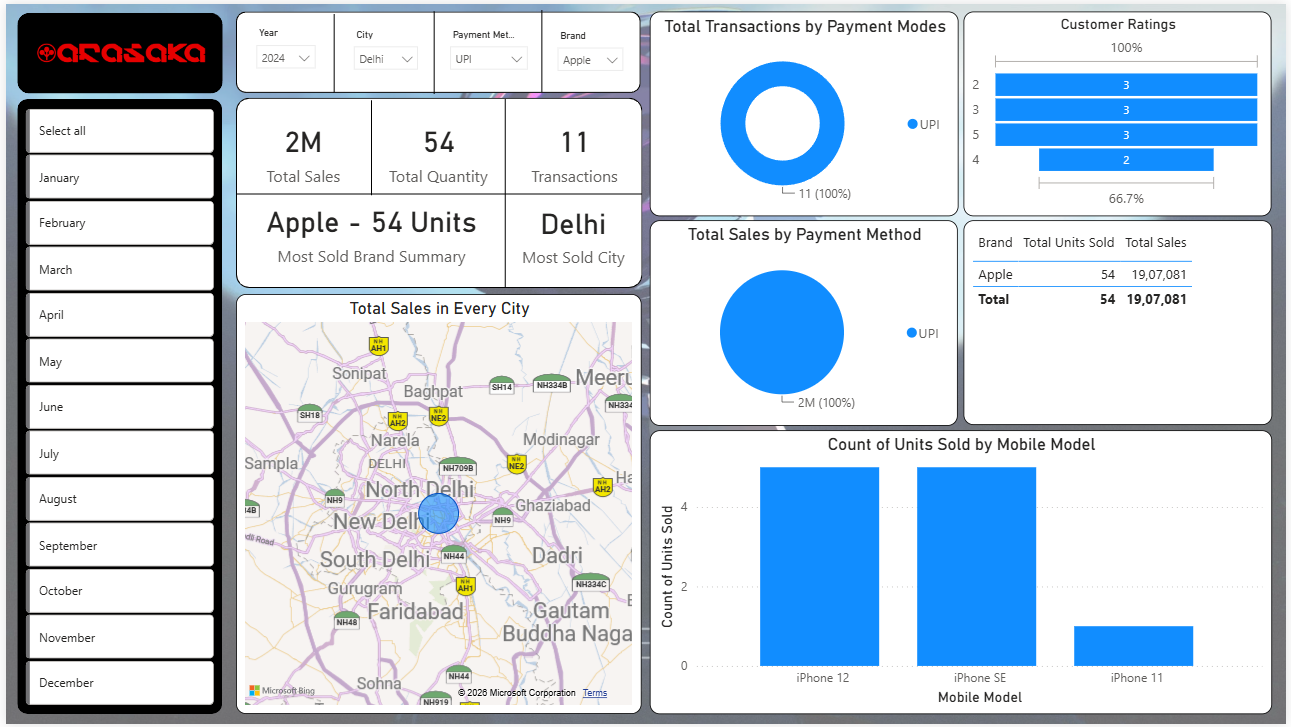

Layout of this report page (visuals, bound fields, positions):
{"tool":"powerbi","page":{"name":"Page 1","canvas":[1280,720],"ordinal":0},"visuals":[{"type":"group","id":"g1","title":"Group 1","box":[0,0,228.8,98.8],"z":0},{"type":"shape","box":[14.7,6.4,205.1,82.7],"z":0,"group":"g1"},{"type":"shape","box":[231.6,8.4,404.2,82],"z":0,"group":"g5"},{"type":"shape","box":[14.5,92.9,205.1,617.7],"z":0,"group":"g4"},{"type":"shape","box":[230.3,94.7,406.4,190.2],"z":0,"group":"g2"},{"type":"shape","box":[229.2,97.7,406.4,190.2],"z":0,"group":"g3"},{"type":"image","box":[0,0,228.8,98.8],"z":1000,"group":"g1"},{"type":"group","id":"g2","title":"Group 3","box":[229.2,92.9,406.6,194.2],"z":1000},{"type":"shape","box":[230.3,97.7,271.3,94.7],"z":1000,"group":"g3"},{"type":"shape","box":[365,9.3,270,81.9],"z":1500,"group":"g5"},{"type":"shape","box":[364.3,95.7,271.3,188.5],"z":2000,"group":"g3"},{"type":"advancedSlicerVisual","fields":{"Values":["Mobile_Sales_Data.Date.Variation.Date Hierarchy.Month"]},"box":[18.1,100.1,199.1,611.7],"z":2000,"group":"g4"},{"type":"map","title":"Total Sales in Every City","fields":{"Category":["Mobile_Sales_Data.City"],"Size":["Mobile_Sales_Data.Total Sales"]},"box":[230,290,405.6,420],"z":2000},{"type":"card","fields":{"Values":["Mobile_Sales_Data.Total_Quantity"]},"box":[365.4,92.9,135.1,109.7],"z":3000,"group":"g2"},{"type":"clusteredColumnChart","fields":{"Category":["Mobile_Sales_Data.Mobile Model"],"Y":["CountNonNull(Mobile_Sales_Data.Units Sold)"]},"box":[644.2,426.3,622.1,283.7],"z":3000},{"type":"card","fields":{"Values":["Mobile_Sales_Data.Most Sold Brand Summary"]},"box":[230.3,173.4,271.3,109.7],"z":4000,"group":"g2"},{"type":"pieChart","fields":{"Category":["Mobile_Sales_Data.Payment Method"],"Y":["Mobile_Sales_Data.Total Sales"]},"box":[644.2,215.8,307.9,205.3],"z":4000},{"type":"donutChart","title":"Total Transactions by Payment Modes","fields":{"Category":["Mobile_Sales_Data.Payment Method"],"Y":["Mobile_Sales_Data.Transactions"]},"box":[644,7,309,205],"z":5000},{"type":"card","fields":{"Values":["Mobile_Sales_Data.Total_Sales"]},"box":[501.6,92.9,135.1,109.7],"z":5000,"group":"g2"},{"type":"funnel","title":"Customer Ratings","fields":{"Category":["Mobile_Sales_Data.Customer Ratings"],"Y":["CountNonNull(Mobile_Sales_Data.Customer Ratings)"]},"box":[958,7,308,205],"z":6000},{"type":"card","fields":{"Values":["Mobile_Sales_Data.Total_Sales"]},"box":[230.3,92.9,135.1,109.7],"z":6000,"group":"g2"},{"type":"group","id":"g3","title":"Group 2","box":[229.2,95.7,406.4,192.2],"z":7000,"group":"g2"},{"type":"tableEx","title":"Customer Ratings","fields":{"Values":["Mobile_Sales_Data.Brand","Mobile_Sales_Data.Total Units Sold","Mobile_Sales_Data.Total Sales"]},"box":[957.9,216,308.8,205.1],"z":7000},{"type":"group","id":"g4","title":"Group 5","box":[14.5,92.9,205.1,618.9],"z":8000},{"type":"card","fields":{"Values":["Mobile_Sales_Data.Most Sold City"]},"box":[500.5,174.3,135.1,109.7],"z":8000,"group":"g2"},{"type":"group","id":"g5","title":"Group 4","box":[231.2,8.4,404.5,82.8],"z":9000},{"type":"slicer","fields":{"Values":["Mobile_Sales_Data.City"]},"box":[505.5,15.7,124.3,65.1],"z":10000},{"type":"slicer","fields":{"Values":["Mobile_Sales_Data.Brand"]},"box":[236.5,15.7,121.9,65.1],"z":11000},{"type":"slicer","fields":{"Values":["Mobile_Sales_Data.Payment Method"]},"box":[368,18.1,130.3,65.1],"z":12000},{"type":"shape","box":[231.2,9.3,270,81.9],"z":13000,"group":"g5"}]}

Visuals, with their boxes in screenshot pixels (x1, y1, x2, y2), scaled from the page's 1280x720 canvas onto the 1291x727 screenshot:
"Group 1" group: bbox=[0, 0, 231, 100]
shape: bbox=[15, 6, 222, 90]
shape: bbox=[234, 8, 641, 91]
shape: bbox=[15, 94, 221, 718]
shape: bbox=[232, 96, 642, 288]
shape: bbox=[231, 99, 641, 291]
image: bbox=[0, 0, 231, 100]
"Group 3" group: bbox=[231, 94, 641, 290]
shape: bbox=[232, 99, 506, 194]
shape: bbox=[368, 9, 640, 92]
shape: bbox=[367, 97, 641, 287]
advancedSlicerVisual - Mobile_Sales_Data.Date.Variation.Date Hierarchy.Month: bbox=[18, 101, 219, 719]
"Total Sales in Every City" map: bbox=[232, 293, 641, 717]
card - Mobile_Sales_Data.Total_Quantity: bbox=[369, 94, 505, 205]
clusteredColumnChart - Mobile_Sales_Data.Mobile Model x CountNonNull(Mobile_Sales_Data.Units Sold): bbox=[650, 430, 1277, 717]
card - Mobile_Sales_Data.Most Sold Brand Summary: bbox=[232, 175, 506, 286]
pieChart - Mobile_Sales_Data.Payment Method x Mobile_Sales_Data.Total Sales: bbox=[650, 218, 960, 425]
"Total Transactions by Payment Modes" donutChart: bbox=[650, 7, 961, 214]
card - Mobile_Sales_Data.Total_Sales: bbox=[506, 94, 642, 205]
"Customer Ratings" funnel: bbox=[966, 7, 1277, 214]
card - Mobile_Sales_Data.Total_Sales: bbox=[232, 94, 369, 205]
"Group 2" group: bbox=[231, 97, 641, 291]
"Customer Ratings" tableEx: bbox=[966, 218, 1278, 425]
"Group 5" group: bbox=[15, 94, 221, 719]
card - Mobile_Sales_Data.Most Sold City: bbox=[505, 176, 641, 287]
"Group 4" group: bbox=[233, 8, 641, 92]
slicer - Mobile_Sales_Data.City: bbox=[510, 16, 635, 82]
slicer - Mobile_Sales_Data.Brand: bbox=[239, 16, 361, 82]
slicer - Mobile_Sales_Data.Payment Method: bbox=[371, 18, 503, 84]
shape: bbox=[233, 9, 506, 92]
